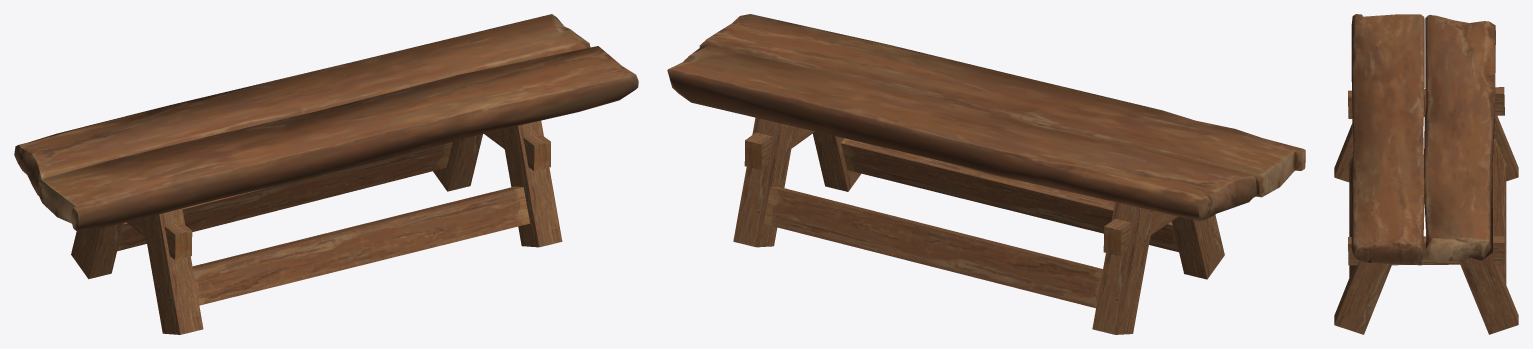
File: SM_Farm_Bench_01.fbx
3 views of the same model, side by side, from view 1: azimuth 30°, elevation 25°; view 2: azimuth 150°, elevation 25°; view 3: azimuth 270°, elevation 25° (orthographic). The views are drawn at different scales.
Visible parts, largest first — view 1: SM_Farm_Bench_0_LOD0; view 2: SM_Farm_Bench_0_LOD0; view 3: SM_Farm_Bench_0_LOD0.
Boxes of the visible parts, x1,y1,x2,y2 form: SM_Farm_Bench_0_LOD0: [14, 14, 638, 334]; SM_Farm_Bench_0_LOD0: [667, 14, 1305, 334]; SM_Farm_Bench_0_LOD0: [1334, 14, 1518, 334].
Bounding box in the file's own units: 195 × 50.52 × 65.46.
